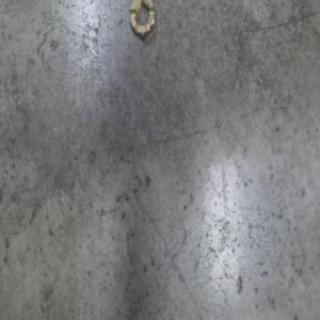Nuttrack_idkeyframe: (128, 0, 157, 38)
